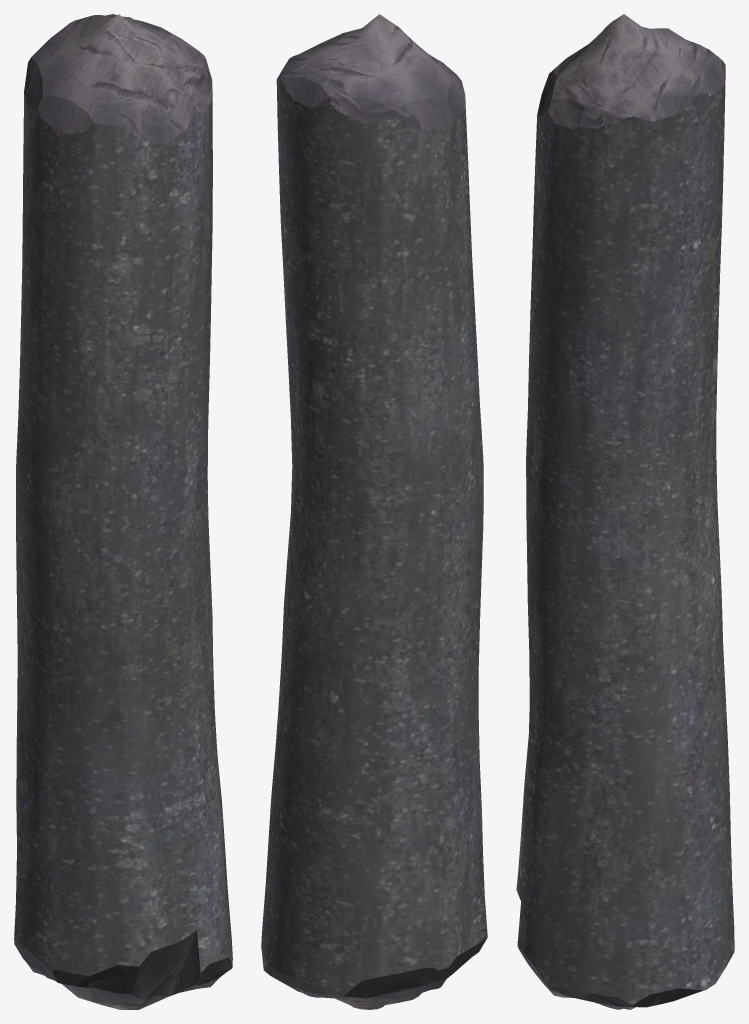
The picture shows the model from 3 angles, left to right: view 1: azimuth 30°, elevation 25°; view 2: azimuth 150°, elevation 25°; view 3: azimuth 270°, elevation 25°; orthographic projection.
Visible parts, largest first — view 1: SM_FH_Ash_Tree_02_quarter_01_LOD0; view 2: SM_FH_Ash_Tree_02_quarter_01_LOD0; view 3: SM_FH_Ash_Tree_02_quarter_01_LOD0.
Part boxes in pixels (left/top/right/bottom): SM_FH_Ash_Tree_02_quarter_01_LOD0: left=14, top=14, right=232, bottom=1009; SM_FH_Ash_Tree_02_quarter_01_LOD0: left=261, top=14, right=487, bottom=1009; SM_FH_Ash_Tree_02_quarter_01_LOD0: left=516, top=14, right=734, bottom=1009.
Size of the model in its own units: 0.4565 by 2.26 by 0.4532.
Materials: 1 (1 with a texture image).
